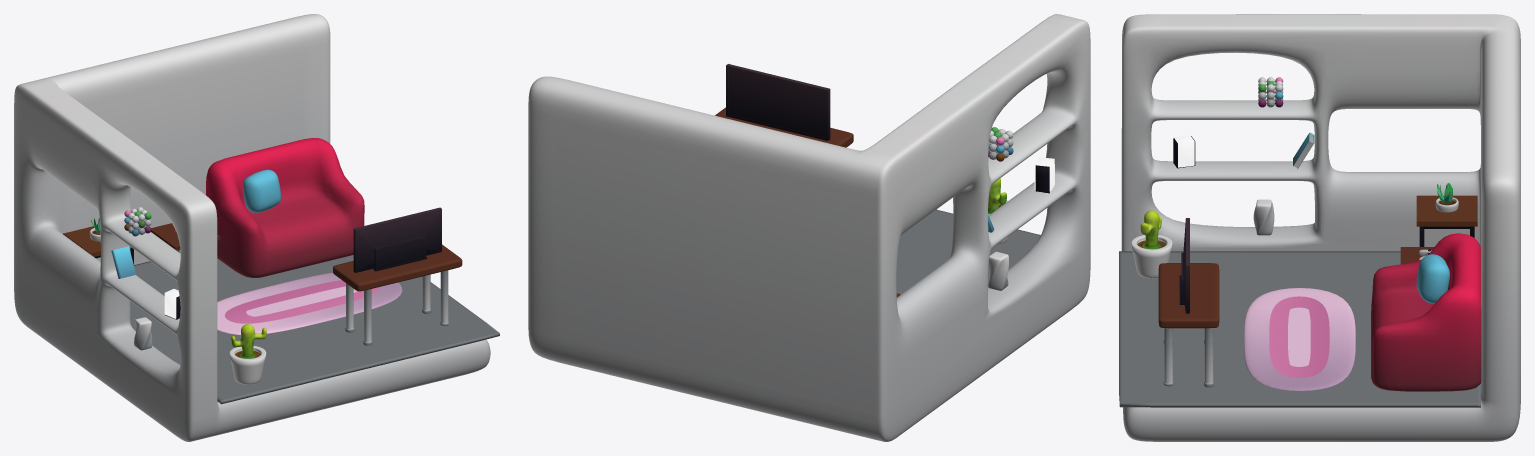
The model's file is coolHouse.gltf.
The picture shows the model from 3 angles, left to right: view 1: azimuth 30°, elevation 25°; view 2: azimuth 150°, elevation 25°; view 3: azimuth 270°, elevation 25°; orthographic projection. The views are drawn at different scales.
Visible parts, largest first — view 1: habitacion, piso, sillon, Alfombra, TV, Mesa, CactusPlant, Almohada, Icosphere, WireframeCube, Book, cuboTorcido (+1 smaller); view 2: habitacion, TV, piso, Mesa, Icosphere, cuboTorcido, RoundedSquareLamp; view 3: habitacion, piso, sillon, Alfombra, Mesa, WireframeCube, CactusPlant, Almohada, TV, Icosphere, RoundedSquareLamp, cuboTorcido (+1 smaller).
Part boxes in pixels (x1,y1,x2,y2): habitacion: [14, 14, 490, 441]; piso: [130, 255, 499, 404]; sillon: [206, 138, 364, 277]; Alfombra: [217, 272, 402, 334]; TV: [353, 207, 441, 272]; Mesa: [333, 244, 462, 345]; CactusPlant: [229, 324, 266, 384]; Almohada: [242, 169, 280, 212]; Icosphere: [124, 207, 151, 236]; WireframeCube: [63, 226, 133, 264]; Book: [111, 246, 135, 278]; cuboTorcido: [134, 317, 152, 350]; habitacion: [528, 14, 1090, 441]; TV: [726, 64, 830, 140]; piso: [896, 209, 1040, 294]; Mesa: [715, 107, 853, 147]; Icosphere: [988, 127, 1013, 161]; cuboTorcido: [988, 251, 1009, 290]; RoundedSquareLamp: [1034, 157, 1054, 193]; habitacion: [1121, 14, 1520, 441]; piso: [1119, 251, 1480, 407]; sillon: [1371, 233, 1481, 391]; Alfombra: [1244, 288, 1355, 390]; Mesa: [1158, 263, 1219, 387]; WireframeCube: [1416, 195, 1477, 246]; CactusPlant: [1131, 210, 1172, 278]; Almohada: [1416, 254, 1449, 303]; TV: [1179, 218, 1189, 313]; Icosphere: [1258, 77, 1283, 107]; RoundedSquareLamp: [1173, 135, 1195, 168]; cuboTorcido: [1253, 199, 1274, 235].
Size of the model in its own units: 7.17 by 5.28 by 7.17.
Materials: 4 (3 with a texture image).
